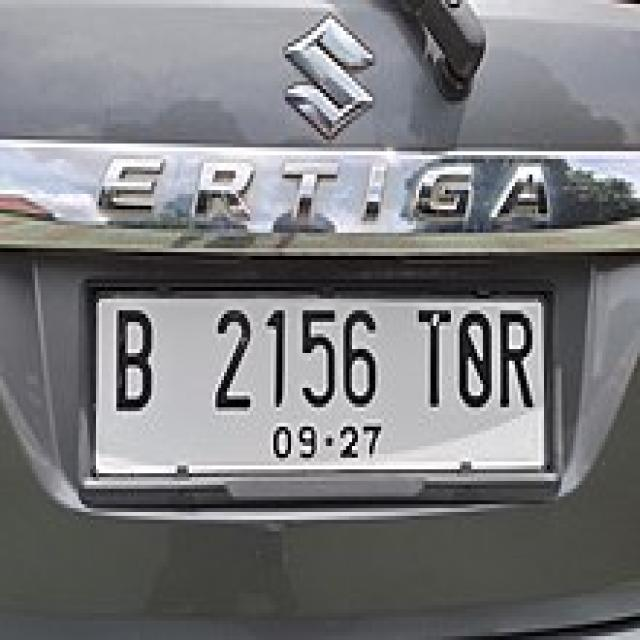lisence-plate: (84, 280, 566, 506)
